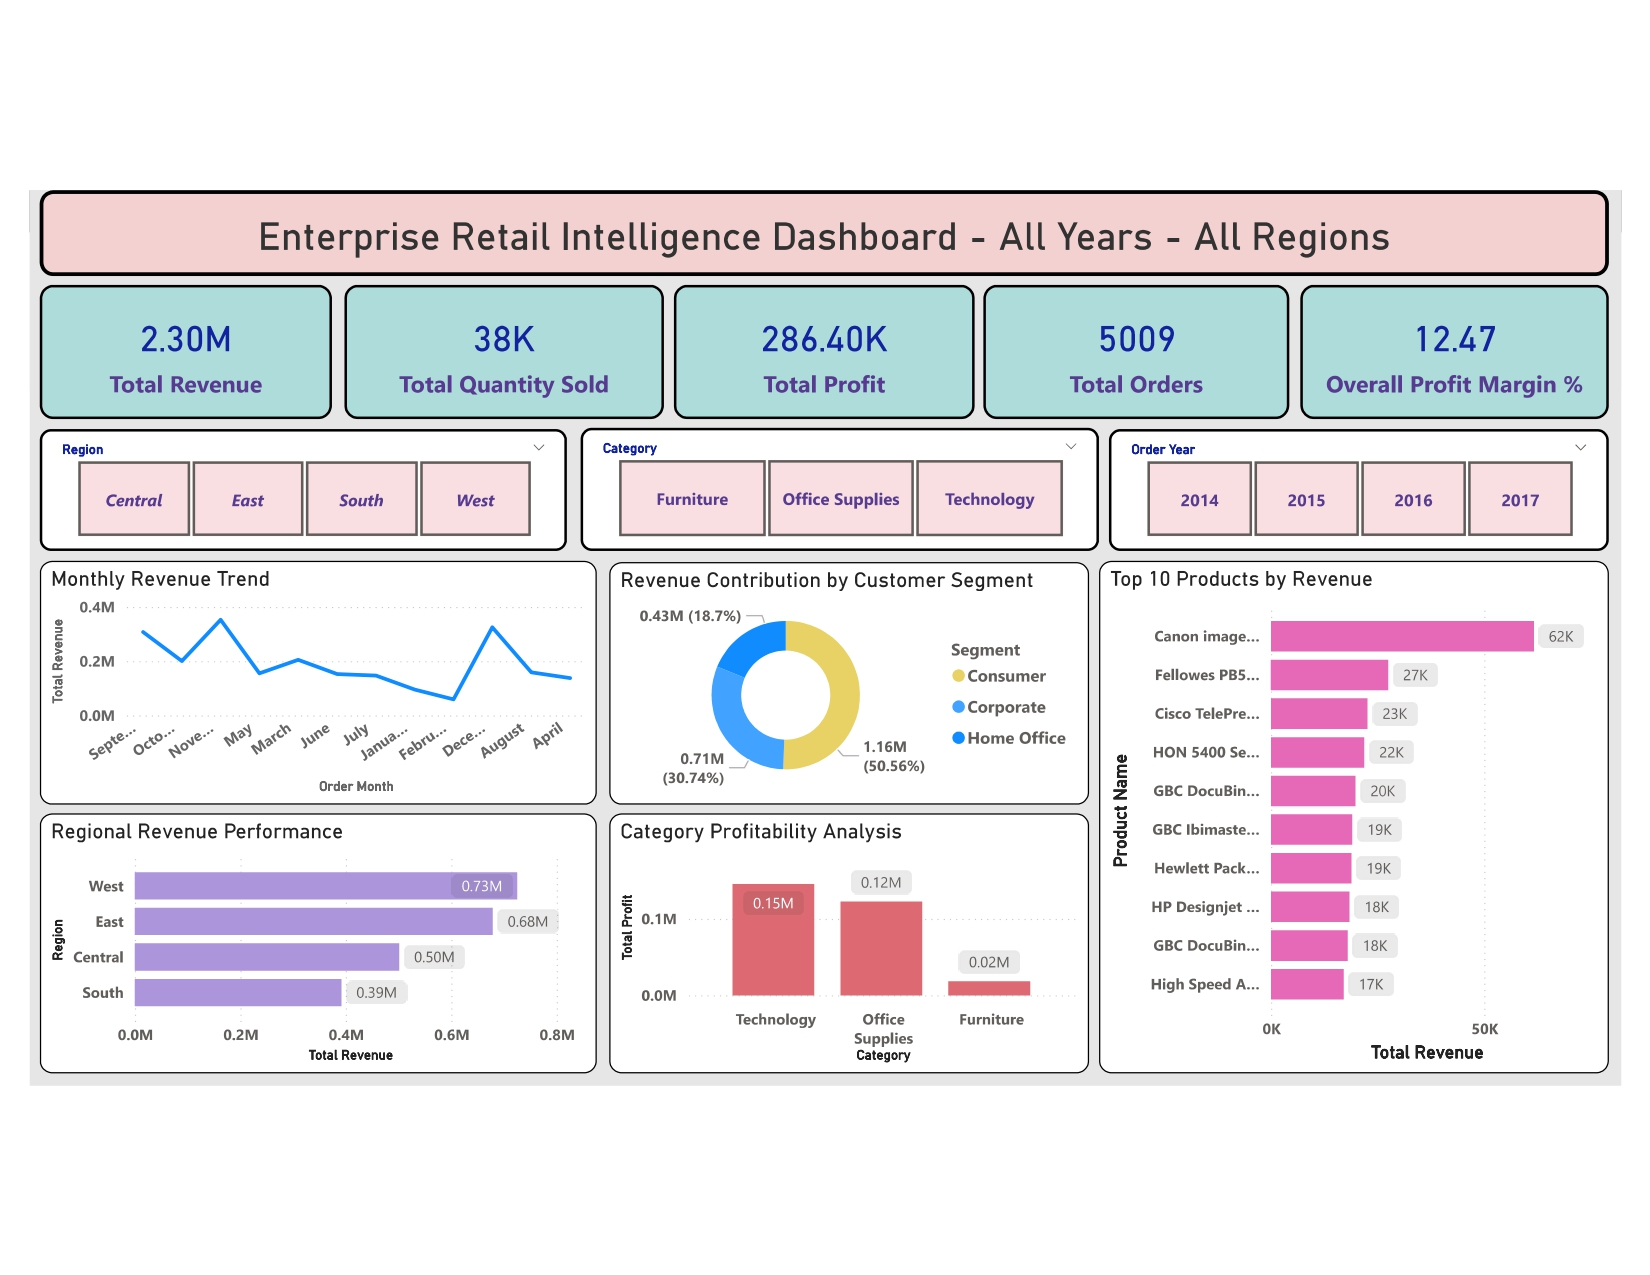

Layout of this report page (visuals, bound fields, positions):
{"tool":"powerbi","page":{"name":"Executive Dashboard","canvas":[1280,720],"ordinal":0},"visuals":[{"type":"lineChart","title":"Monthly Revenue Trend","fields":{"Category":["Sample - Superstore.Order Month"],"Y":["Sample - Superstore.Total Revenue"]},"box":[8.2,298.4,448,195.6],"z":0},{"type":"card","fields":{"Values":["Sample - Superstore.Total Revenue"]},"box":[8.2,76.4,235.1,107.7],"z":1000},{"type":"card","fields":{"Values":["Sample - Superstore.Total Quantity Sold"]},"box":[253.3,76.2,256.4,108.1],"z":2000},{"type":"card","fields":{"Values":["Sample - Superstore.Total Orders"]},"box":[767,76.2,246.1,108.1],"z":3000},{"type":"card","fields":{"Values":["Sample - Superstore.Overall Profit Margin %"]},"box":[1021.7,76.4,248.2,107.7],"z":4000},{"type":"card","fields":{"Values":["Sample - Superstore.Total Profit"]},"box":[517.8,76.2,241.9,108.1],"z":5000},{"type":"clusteredBarChart","title":"Regional Revenue Performance","fields":{"Category":["Sample - Superstore.Region"],"Y":["Sample - Superstore.Total Revenue"]},"box":[8.2,501.4,448,208.8],"z":6000},{"type":"clusteredBarChart","title":"Top 10 Products by Revenue","fields":{"Category":["Sample - Superstore.Product Name"],"Y":["Sample - Superstore.Total Revenue"]},"box":[859.7,298.4,410.1,411.8],"z":7000},{"type":"slicer","fields":{"Values":["Sample - Superstore.Region"]},"box":[8.2,191.5,424.1,98.6],"z":8000},{"type":"slicer","fields":{"Values":["Sample - Superstore.Category"]},"box":[442.7,191.5,417,98.8],"z":9000},{"type":"slicer","fields":{"Values":["Sample - Superstore.Order Year"]},"box":[868,191.5,401.9,98.6],"z":10000},{"type":"clusteredColumnChart","title":"Category Profitability Analysis","fields":{"Category":["Sample - Superstore.Category"],"Y":["Sample - Superstore.Total Profit"]},"box":[466.4,501.4,386.1,209],"z":11000},{"type":"donutChart","title":"Revenue Contribution by Customer Segment","fields":{"Category":["Sample - Superstore.Segment"],"Y":["Sample - Superstore.Total Revenue"]},"box":[466.4,298.6,386.1,195.6],"z":12000},{"type":"card","fields":{"Values":["Sample - Superstore.Dynamic Title"]},"box":[8.2,0,1261.7,69],"z":13000}]}

Visuals, with their boxes in screenshot pixels (x1, y1, x2, y2):
"Monthly Revenue Trend" lineChart: (left=53, top=551, right=602, bottom=791)
card - Sample - Superstore.Total Revenue: (left=53, top=278, right=341, bottom=411)
card - Sample - Superstore.Total Quantity Sold: (left=354, top=278, right=668, bottom=411)
card - Sample - Superstore.Total Orders: (left=983, top=278, right=1285, bottom=411)
card - Sample - Superstore.Overall Profit Margin %: (left=1296, top=278, right=1600, bottom=411)
card - Sample - Superstore.Total Profit: (left=678, top=278, right=974, bottom=411)
"Regional Revenue Performance" clusteredBarChart: (left=53, top=800, right=602, bottom=1056)
"Top 10 Products by Revenue" clusteredBarChart: (left=1097, top=551, right=1600, bottom=1056)
slicer - Sample - Superstore.Region: (left=53, top=420, right=573, bottom=540)
slicer - Sample - Superstore.Category: (left=586, top=420, right=1097, bottom=541)
slicer - Sample - Superstore.Order Year: (left=1107, top=420, right=1600, bottom=540)
"Category Profitability Analysis" clusteredColumnChart: (left=615, top=800, right=1088, bottom=1056)
"Revenue Contribution by Customer Segment" donutChart: (left=615, top=551, right=1088, bottom=791)
card - Sample - Superstore.Dynamic Title: (left=53, top=185, right=1600, bottom=269)
